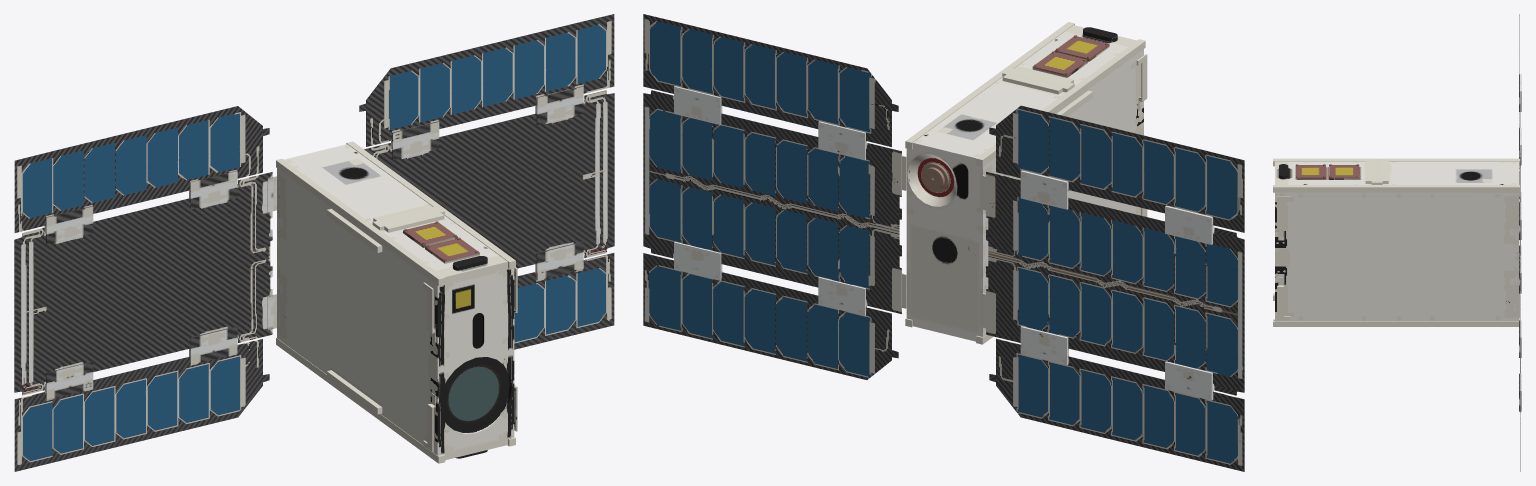
File: satellite.glb
The picture shows the model from 3 angles, left to right: view 1: azimuth 30°, elevation 25°; view 2: azimuth 150°, elevation 25°; view 3: azimuth 270°, elevation 25°; orthographic projection. The views are drawn at different scales.
Visible parts, largest first — view 1: eisei; view 2: eisei; view 3: eisei.
Part boxes in pixels (<box>): eisei: <box>14,14,614,471</box>; eisei: <box>643,14,1244,471</box>; eisei: <box>1273,14,1521,471</box>.
Bounding box in the file's own units: 3.89 × 1.93 × 1.84.
Materials: 1 (1 with a texture image).
